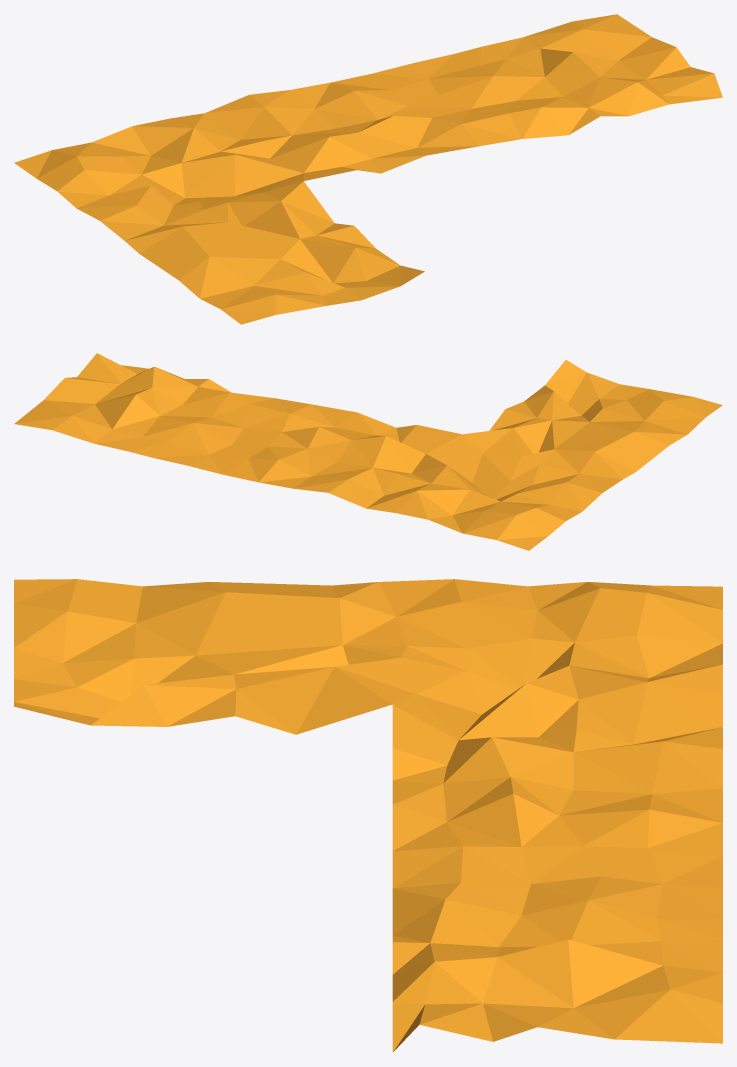
The model's file is SM_Planter_Box_L_Dirt_2x3m_Farm.fbx.
3 renders of one model, top to bottom at view 1: azimuth 30°, elevation 25°; view 2: azimuth 150°, elevation 25°; view 3: azimuth 270°, elevation 25°, orthographic. The views are drawn at different scales.
Visible parts, largest first — view 1: planter-box-l-dirt-2x3m-farm; view 2: planter-box-l-dirt-2x3m-farm; view 3: planter-box-l-dirt-2x3m-farm.
Part boxes in pixels (<box>): planter-box-l-dirt-2x3m-farm: <box>14,14,722,324</box>; planter-box-l-dirt-2x3m-farm: <box>14,353,722,550</box>; planter-box-l-dirt-2x3m-farm: <box>14,579,722,1052</box>.
Size of the model in its own units: 2.89 by 0.1713 by 1.88.
